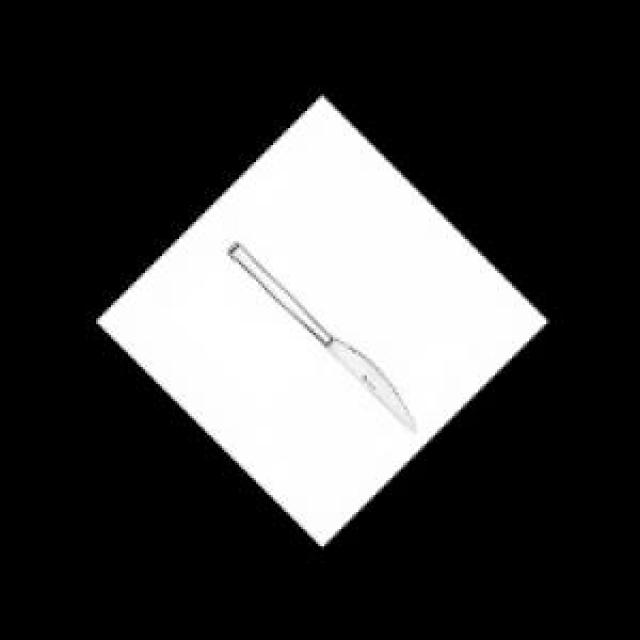knife: (228, 233, 424, 442)
